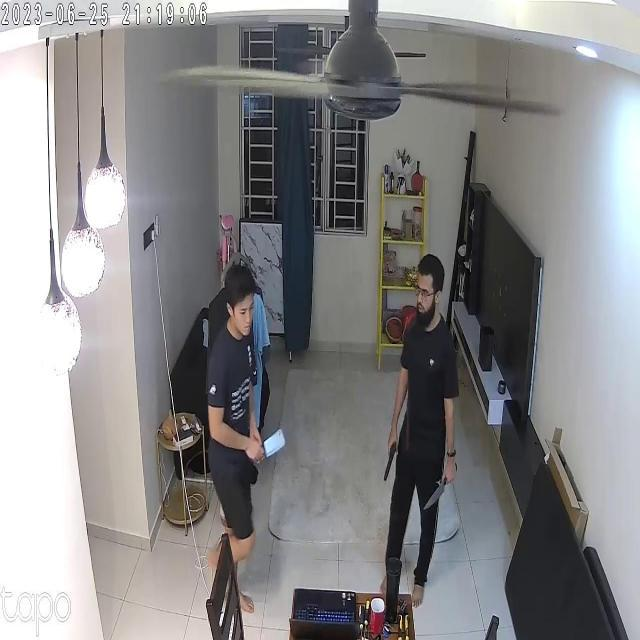Gun: (374, 430, 411, 484)
Knife: (256, 428, 295, 468), (423, 472, 459, 512)
